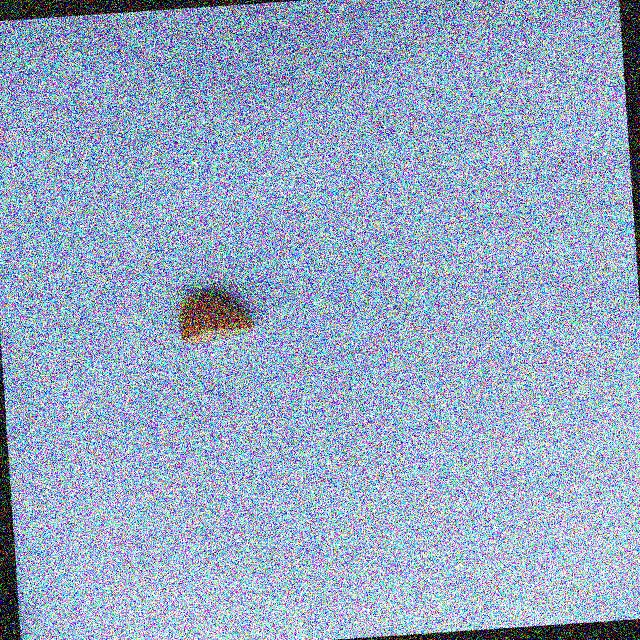grade4: (170, 282, 265, 351)
